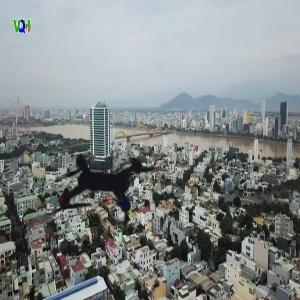drone: (3, 92, 199, 288)
